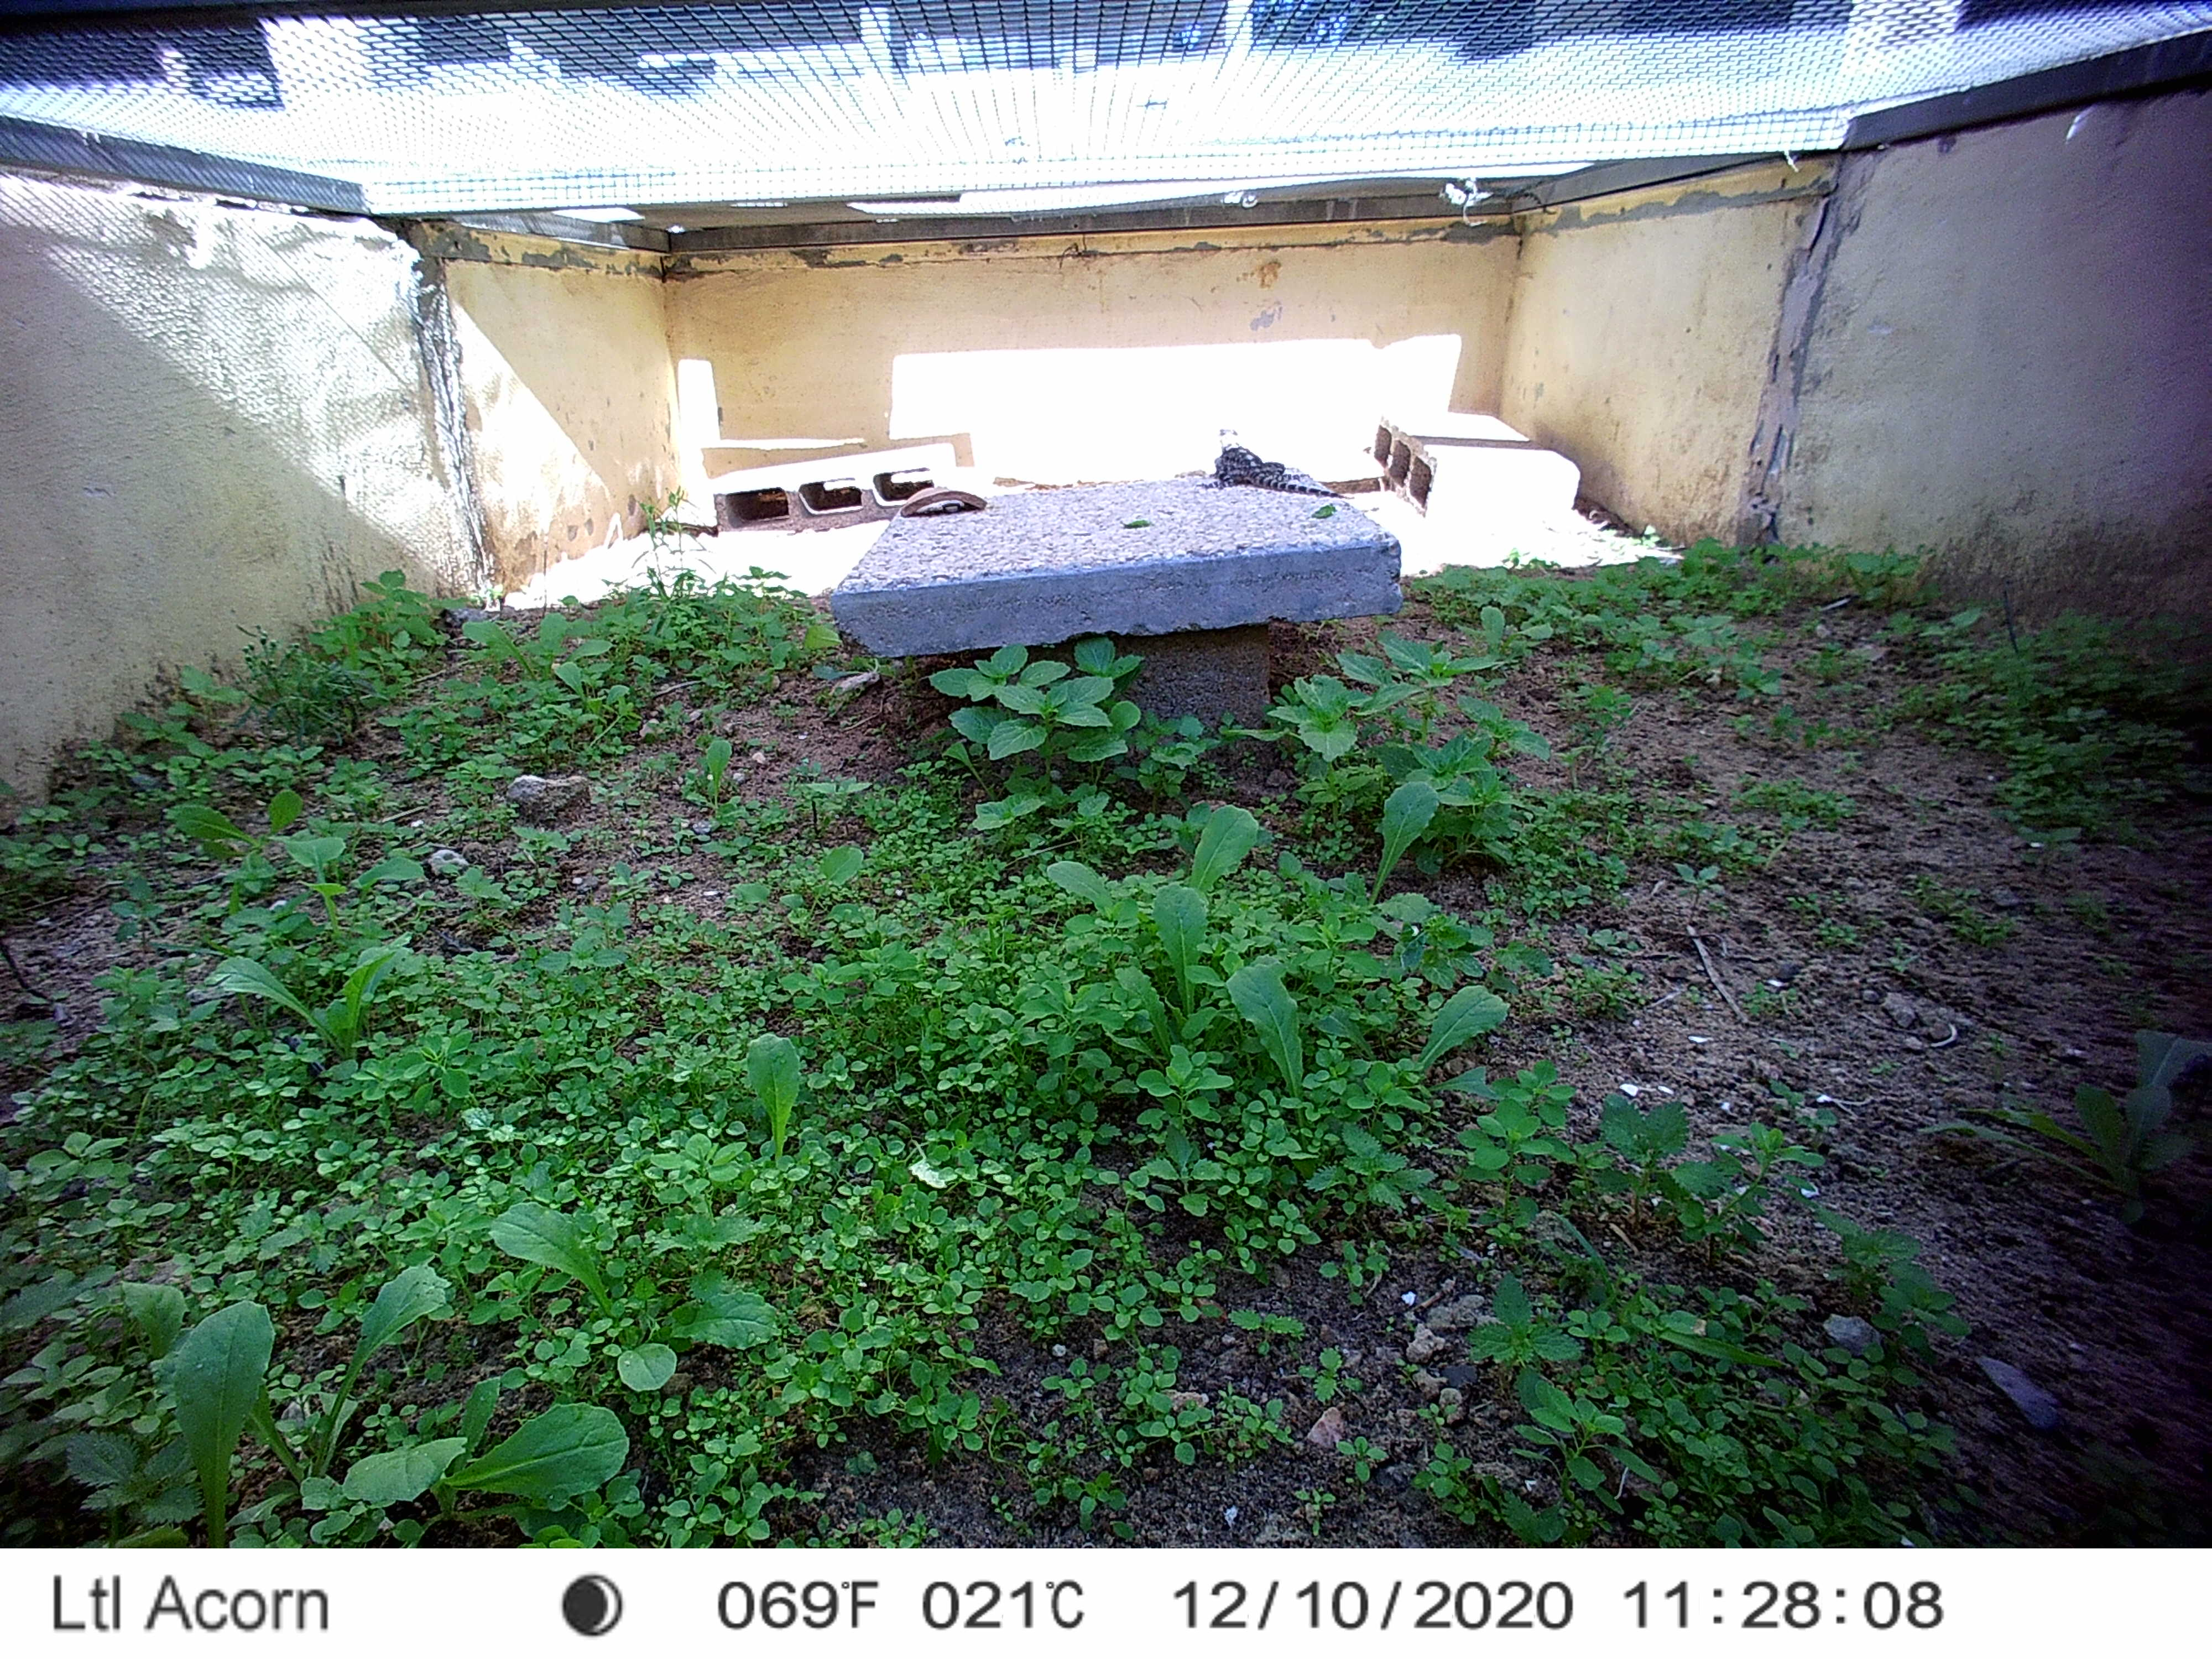lizard: (1205, 422, 1355, 507), (1432, 174, 1562, 220)
